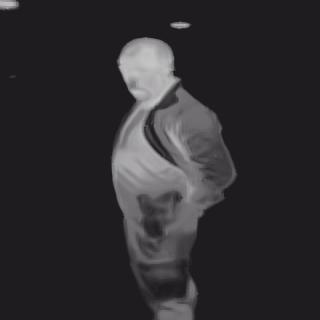Gun: (135, 190, 184, 238)
